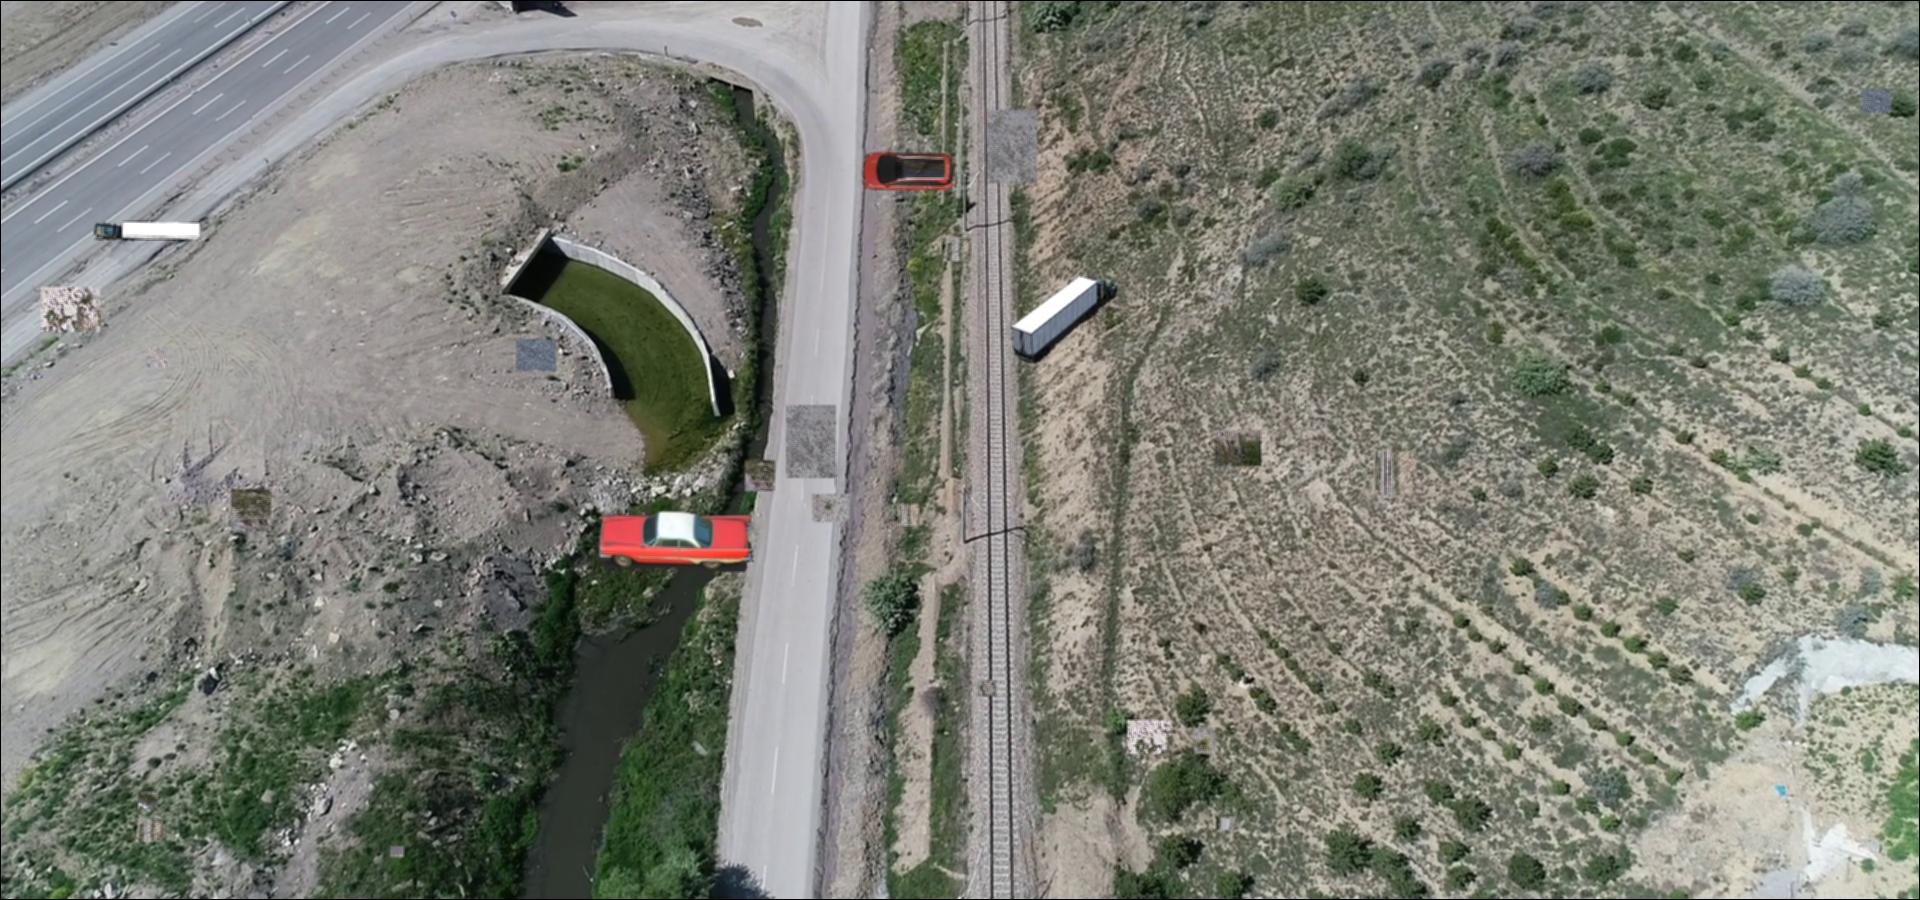arac: (591, 507, 770, 572), (1005, 272, 1118, 362), (861, 146, 958, 195), (94, 219, 203, 245)
